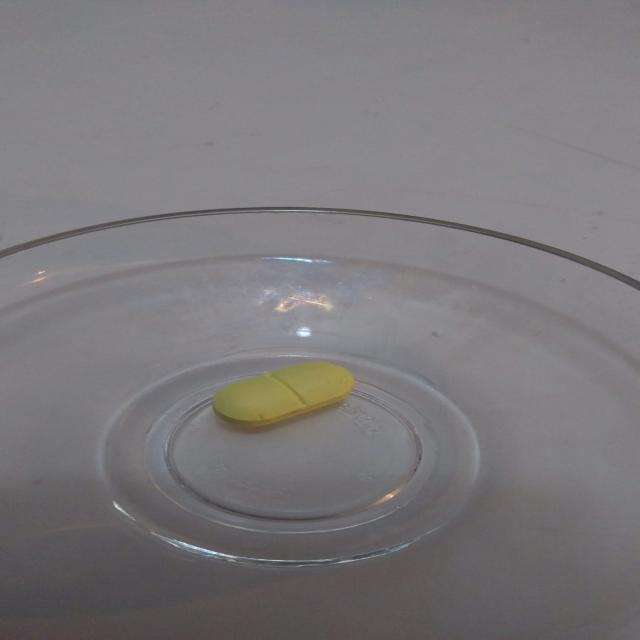pills: (197, 354, 378, 431)
